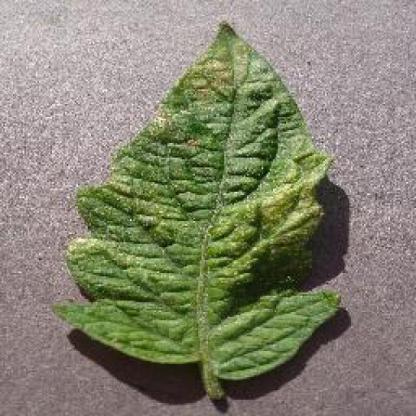Tomato_Spider_Mites: (51, 24, 342, 378)
